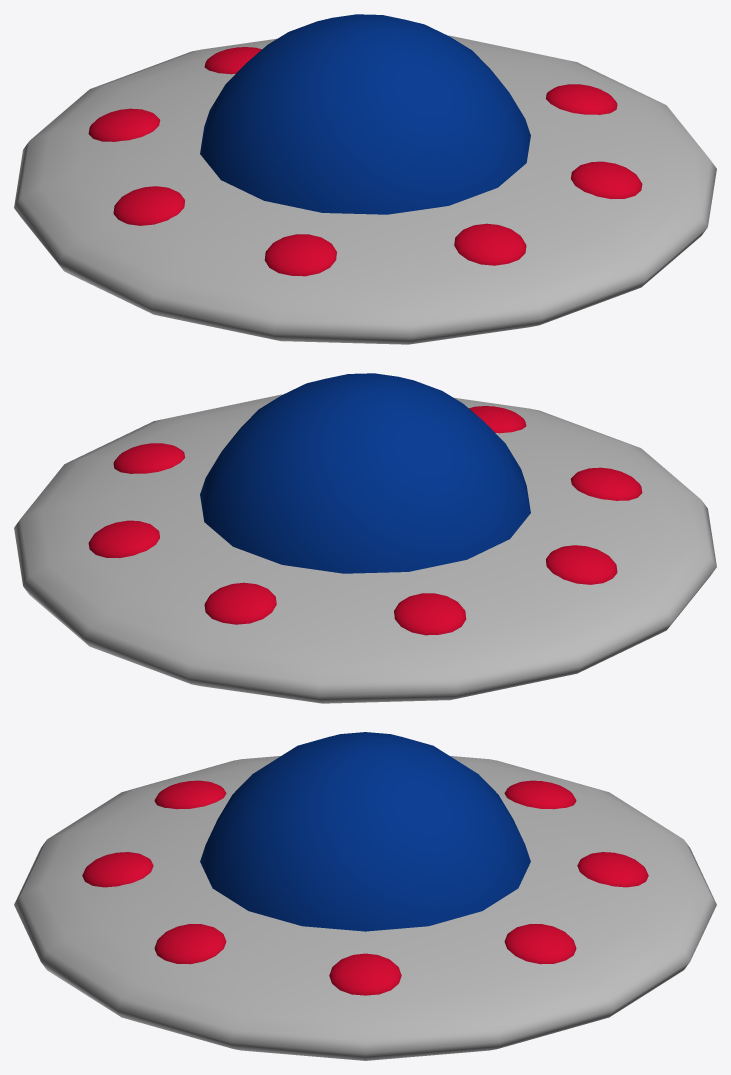
The model's file is Ufo.fbx.
3 views of the same model, one above another, from view 1: azimuth 30°, elevation 25°; view 2: azimuth 150°, elevation 25°; view 3: azimuth 270°, elevation 25° (orthographic).
Visible parts, largest first — view 1: Body, Window, Deco; view 2: Body, Window, Deco; view 3: Body, Window, Deco.
Boxes of the visible parts, x1=… form: Body: x1=14, y1=35, x2=716, y2=344; Window: x1=200, y1=14, x2=530, y2=214; Deco: x1=88, y1=47, x2=642, y2=276; Body: x1=14, y1=394, x2=716, y2=703; Window: x1=200, y1=373, x2=530, y2=573; Deco: x1=88, y1=406, x2=642, y2=635; Body: x1=14, y1=756, x2=716, y2=1060; Window: x1=200, y1=732, x2=530, y2=931; Deco: x1=82, y1=780, x2=648, y2=995.
Size of the model in its own units: 4.06 by 1.31 by 4.06.
